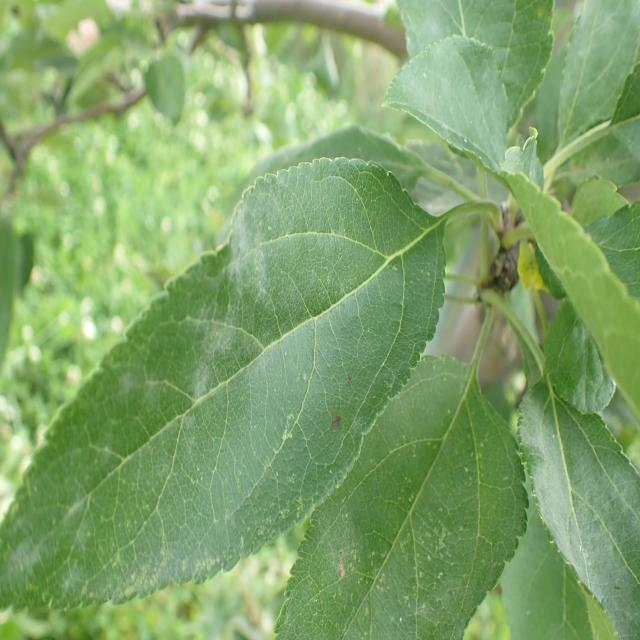Powdery_mildew: (4, 132, 429, 602)
